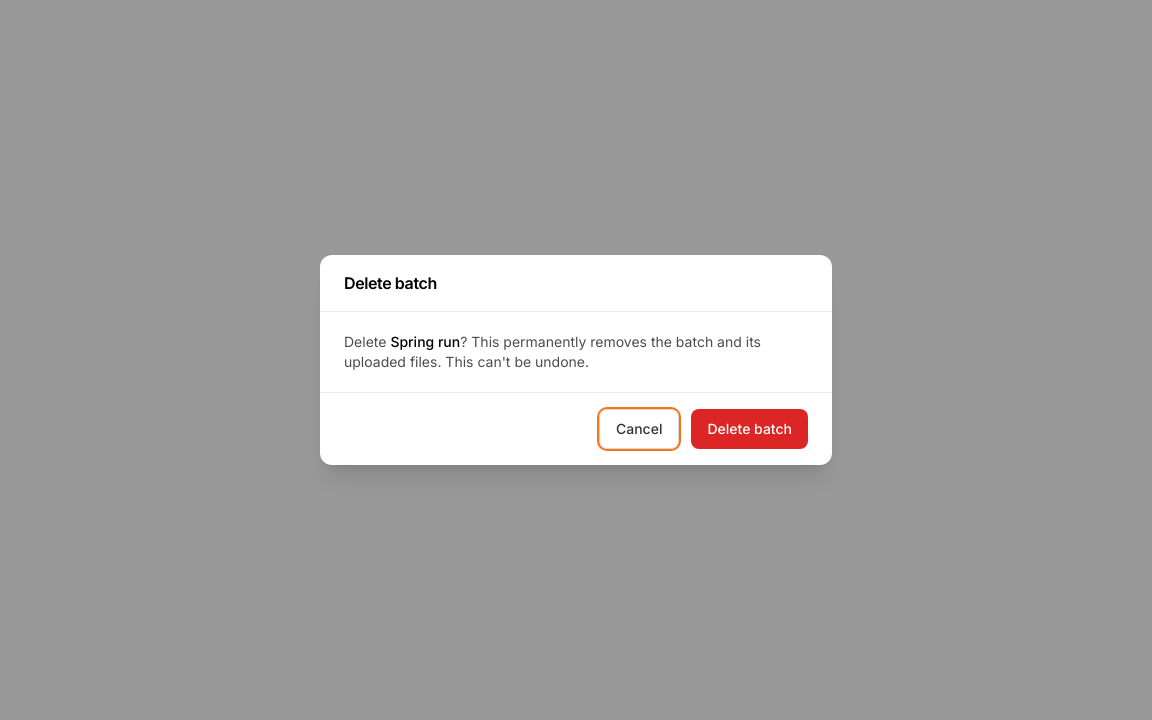
Test: DeleteBatchDialog › shows an error banner and stays open on failure
This screenshot has width=1152, height=720.
Click the button "Delete batch" at [750, 429], box [692, 409, 808, 449]
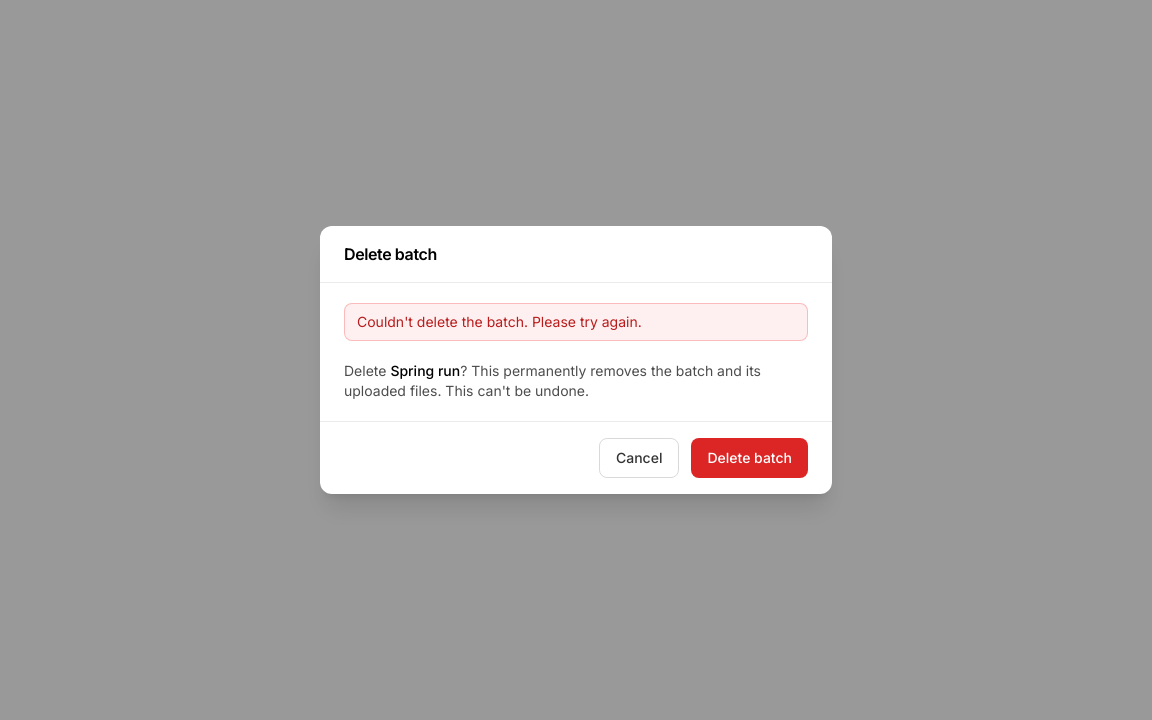
Expected: the message shows "Couldn't delete the batch", [357, 313, 642, 330]
